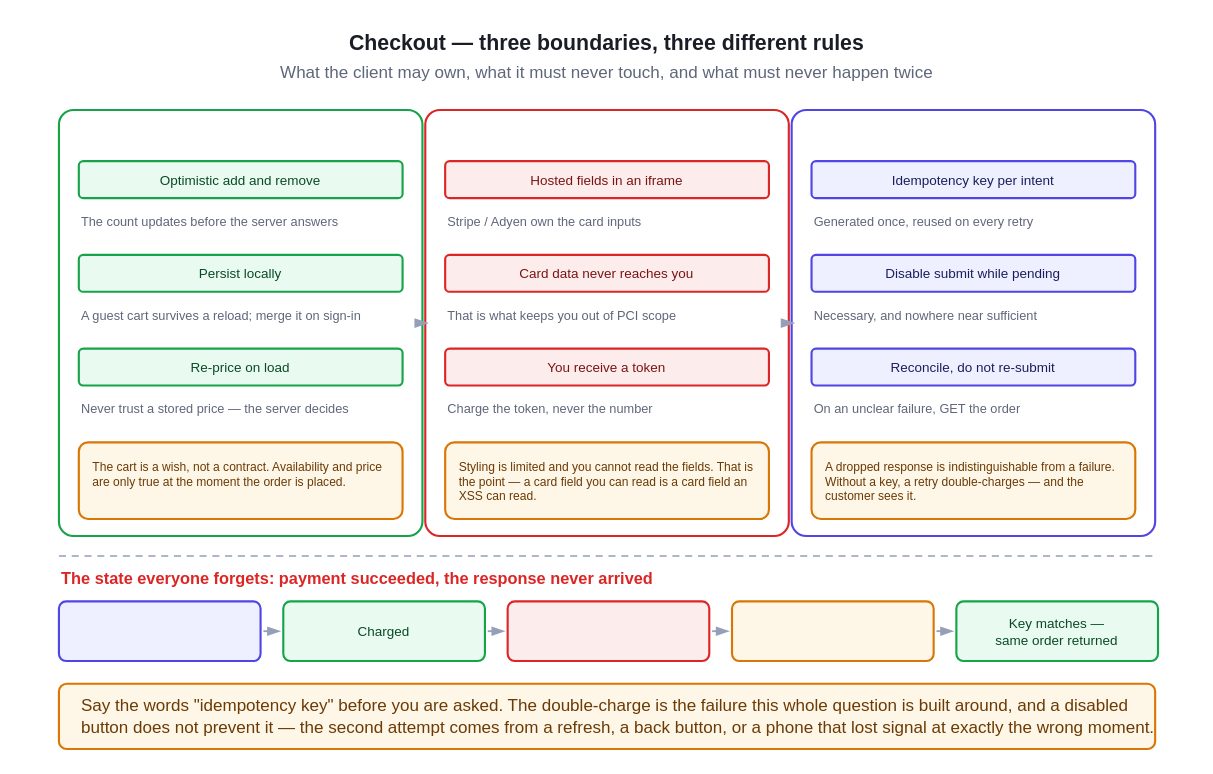
Some shapes in this 1213 by 774 pixel diagram are drawn without their labels. The shapes that lost their labels are listed below. From the top down, each one's box as (x1, y1, x2, y2) in pixels, then its label:
(57, 108, 423, 536): Cart — the client may own it
(424, 108, 789, 536): Payment — you must not touch it
(790, 108, 1156, 536): Order — it must happen once
(57, 600, 261, 661): Submit
(506, 600, 710, 661): Response lost
(730, 600, 934, 661): User retries
